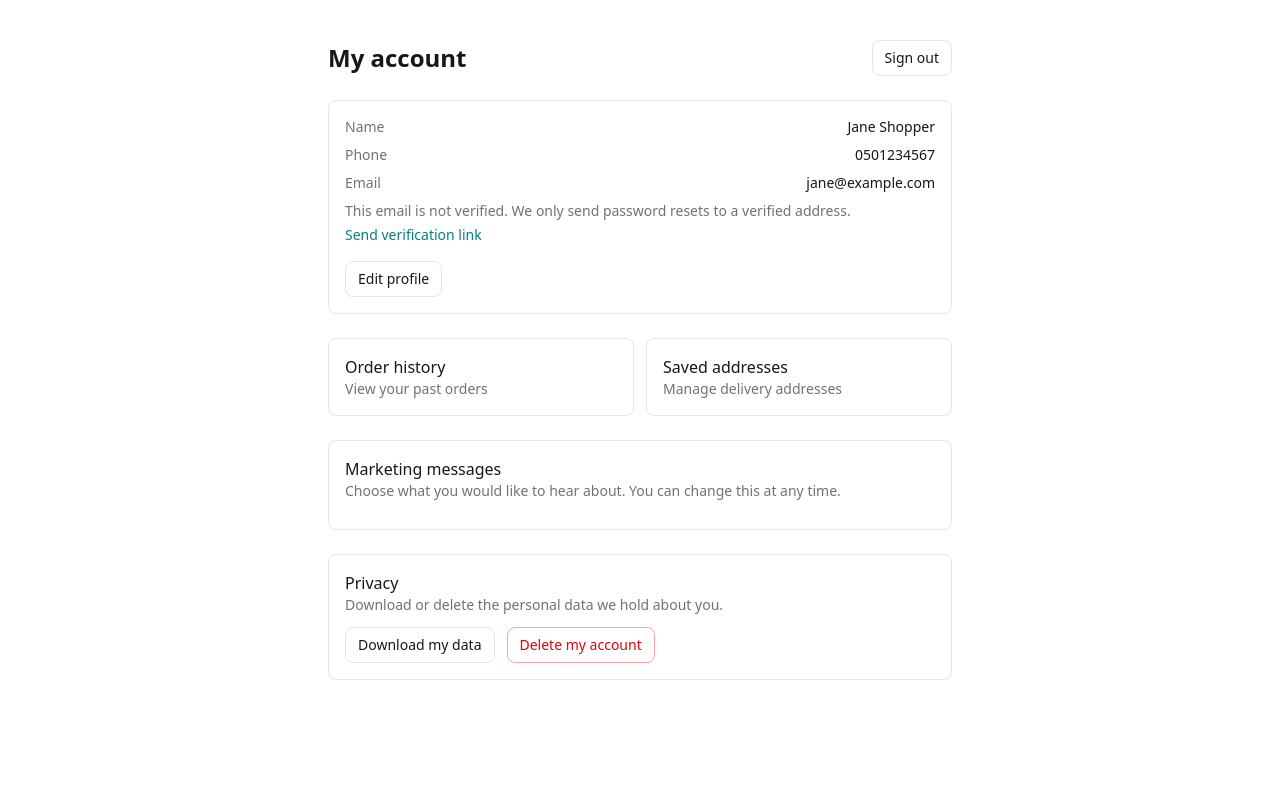
it: AccountDashboardPage — Privacy › confirming deletion runs both backend steps, then logs out and redirects to the storefront home
Click the button "Delete my account" at (581,645), box [506,627,655,663]
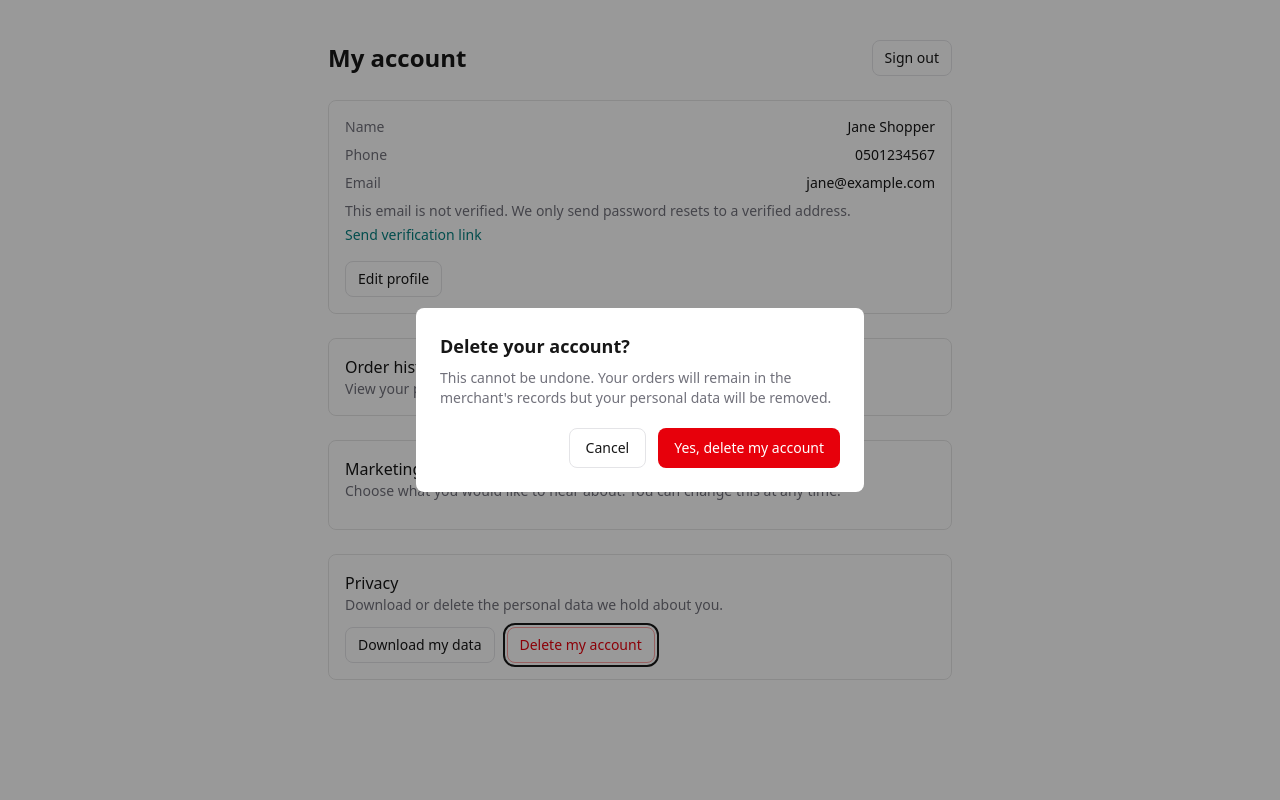
Click the button "Yes, delete my account" at (749,448), box [658,428,840,468]
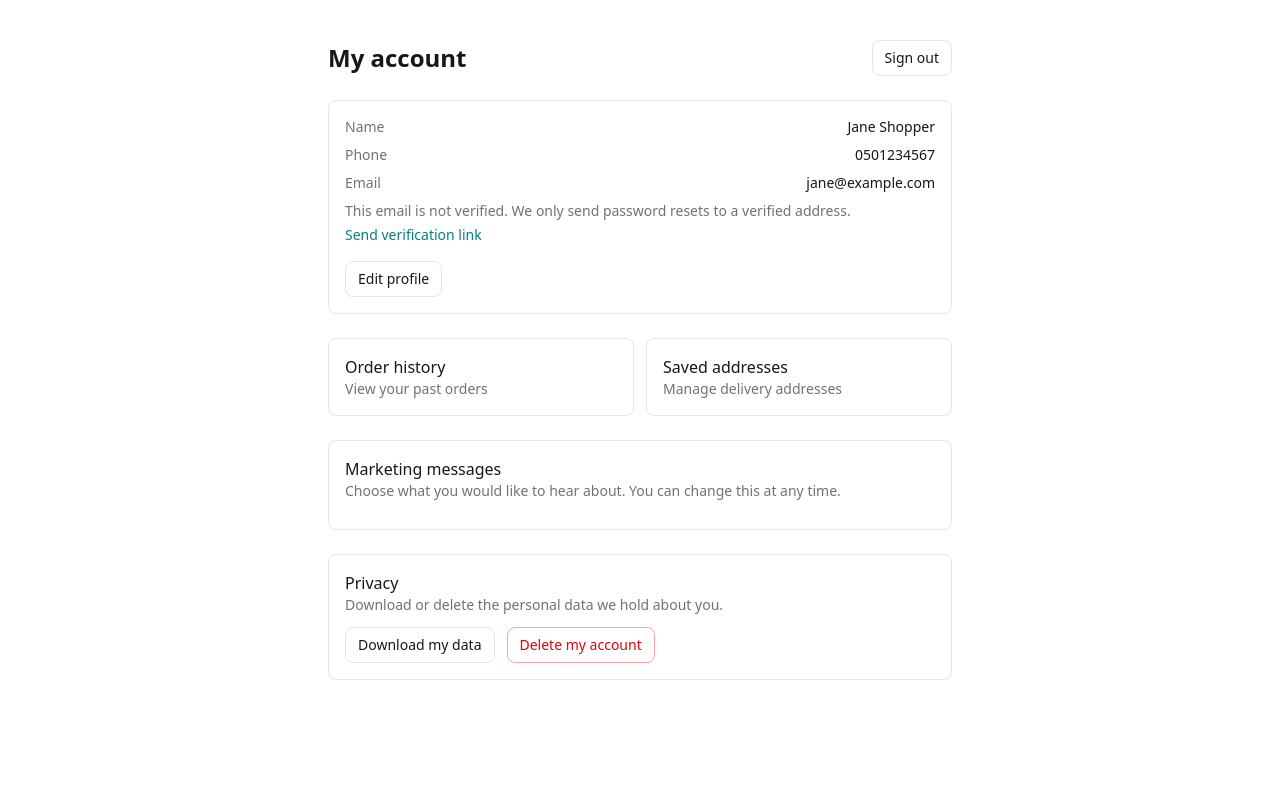
Result: the heading "Delete your account?" is gone
